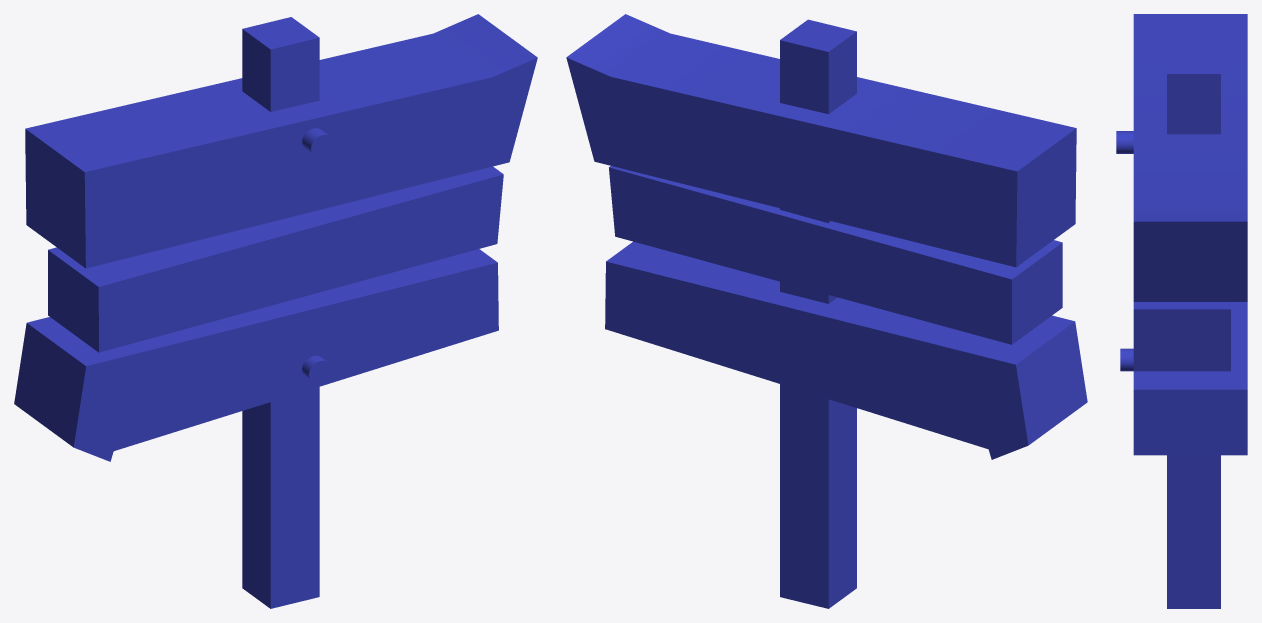
The model's file is Signboard.fbx.
3 renders of one model, left to right at view 1: azimuth 30°, elevation 25°; view 2: azimuth 150°, elevation 25°; view 3: azimuth 270°, elevation 25°, orthographic. The views are drawn at different scales.
Visible parts, largest first — view 1: root (×4); view 2: root (×4); view 3: root (×6).
Part boxes in pixels (box(x1,y1,x2,y2)): root (×4): box(14, 14, 537, 608); root (×4): box(566, 14, 1087, 608); root (×6): box(1116, 14, 1247, 608).
Size of the model in its own units: 0.45 by 0.5182 by 0.1151.
